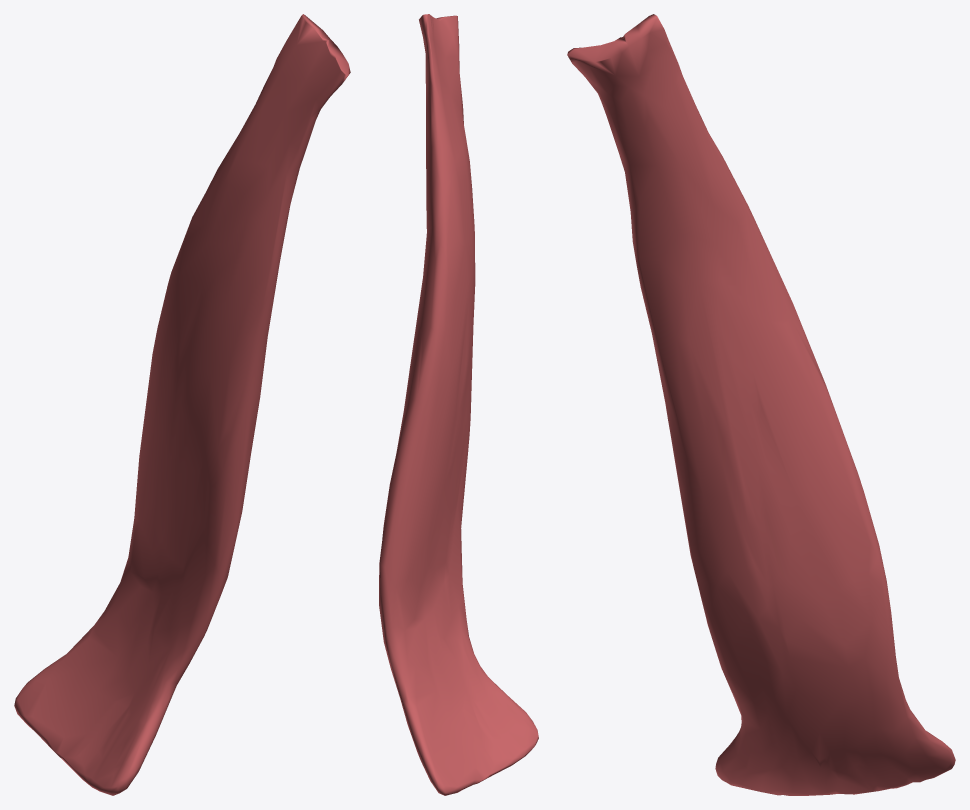
The picture shows the model from 3 angles, left to right: view 1: azimuth 30°, elevation 25°; view 2: azimuth 150°, elevation 25°; view 3: azimuth 270°, elevation 25°; orthographic projection. The views are drawn at different scales.
Parts seen in each view (by area): view 1: 右侧内直肌; view 2: 右侧内直肌; view 3: 右侧内直肌.
Part boxes in pixels (left/top/right/bottom): 右侧内直肌: left=14, top=14, right=350, bottom=795; 右侧内直肌: left=379, top=14, right=538, bottom=795; 右侧内直肌: left=567, top=14, right=955, bottom=795.
Size of the model in its own units: 0.0148 by 0.0595 by 0.0244.
